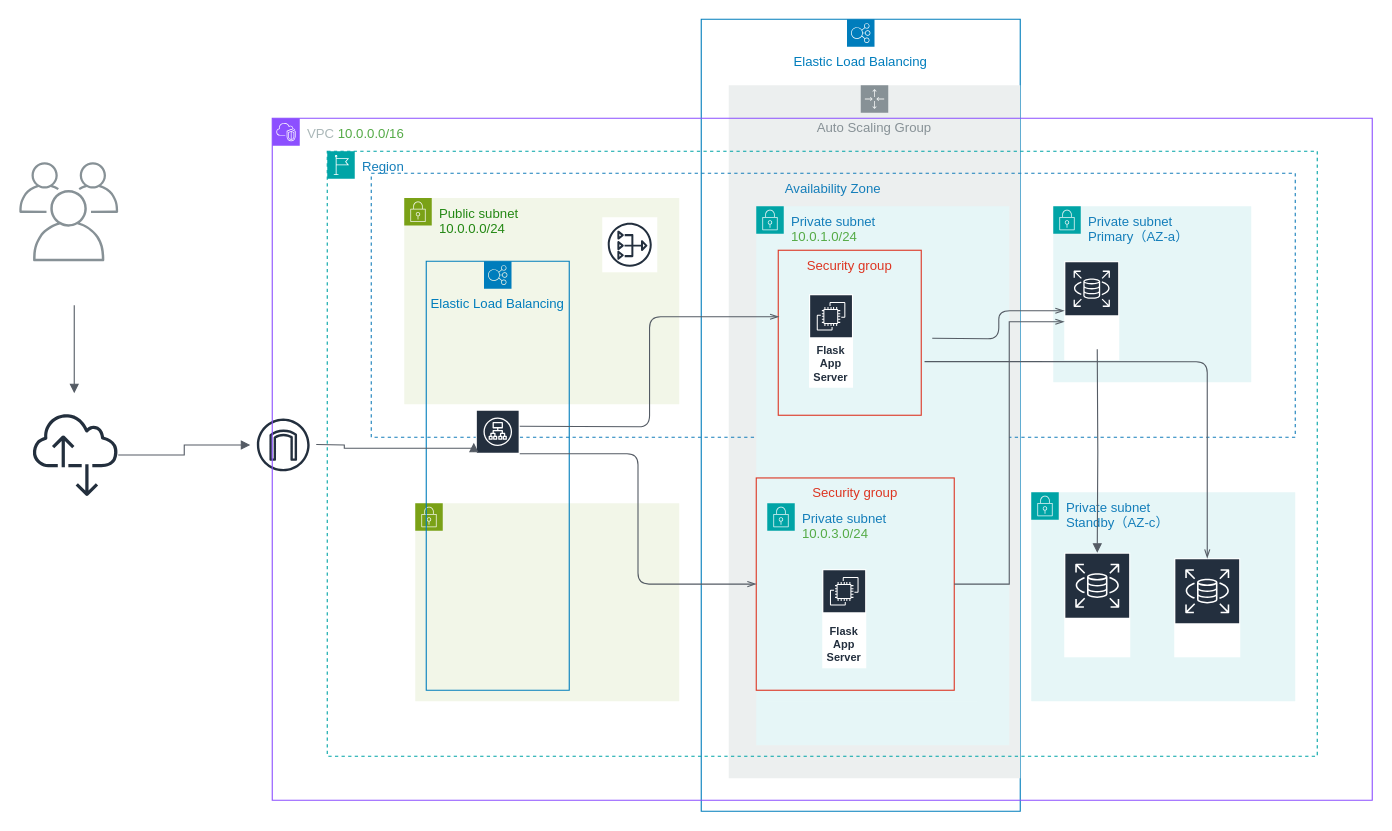
This 1392x831 diagram has some shape labels left out. Each missing label, with the centre of its shape:
Application Load Balancer: point (497, 453)
Internet gateway: point (282, 444)
NAT gateway: point (629, 244)
Public subnet 10.0.2.0/24: point (546, 601)
RDS (Primary): point (1091, 310)
RDS ReadReplica: point (1206, 607)
RDS Standby: point (1096, 604)
users: point (68, 211)
